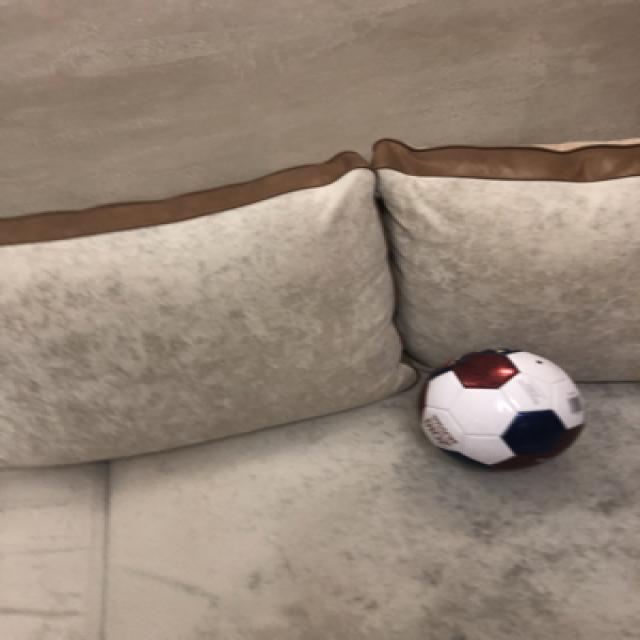soccer_ball: (412, 344, 586, 469)
